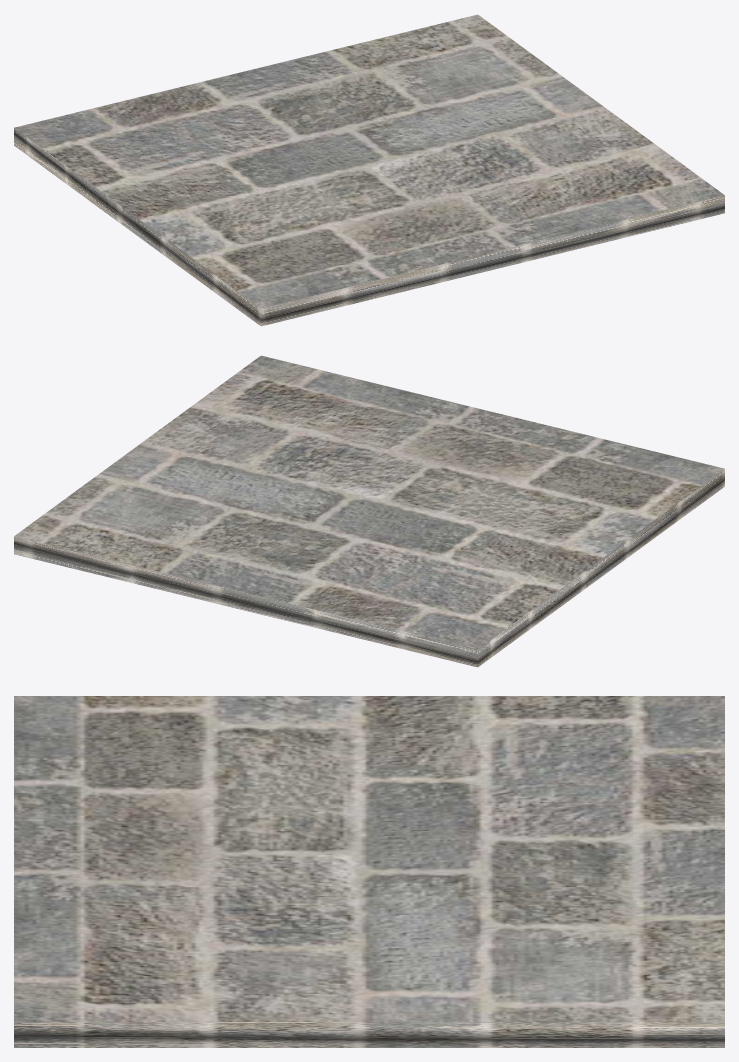
File: wall.obj
3 views of the same model, one above another, from view 1: azimuth 30°, elevation 25°; view 2: azimuth 150°, elevation 25°; view 3: azimuth 270°, elevation 25° (orthographic). The views are drawn at different scales.
Parts seen in each view (by area): view 1: Cube; view 2: Cube; view 3: Cube.
Part boxes in pixels (x1,y1,x2,y2): Cube: (14,14,724,326); Cube: (14,355,724,667); Cube: (14,696,724,1047).
Bounding box in the file's own units: 18.68 × 0.6921 × 17.23.
